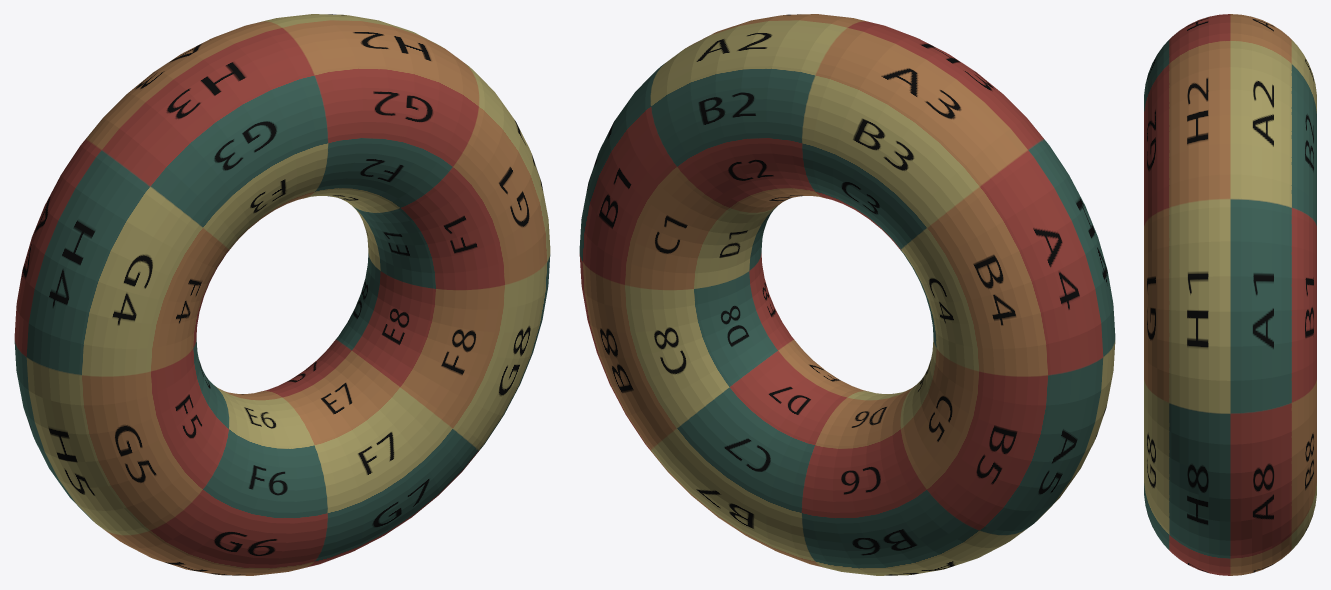
Rendered from texture_torus_R7_r17.glb.
3 renders of one model, left to right at view 1: azimuth 30°, elevation 25°; view 2: azimuth 150°, elevation 25°; view 3: azimuth 270°, elevation 25°, orthographic. The views are drawn at different scales.
Visible parts, largest first — view 1: world; view 2: world; view 3: world.
Boxes of the visible parts, <box> form: world: <box>14,14,550,575</box>; world: <box>579,14,1115,575</box>; world: <box>1144,14,1316,575</box>.
Size of the model in its own units: 21.2 by 21.16 by 6.52.
Materials: 1 (1 with a texture image).
